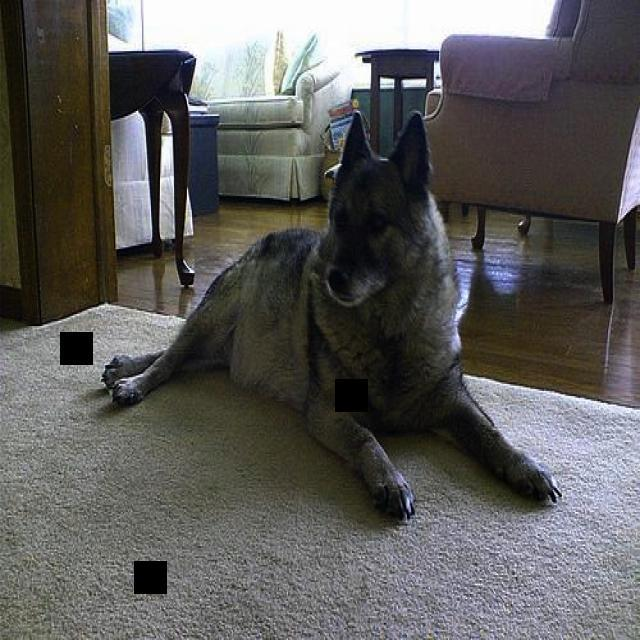adult_dog: (102, 111, 563, 522)
